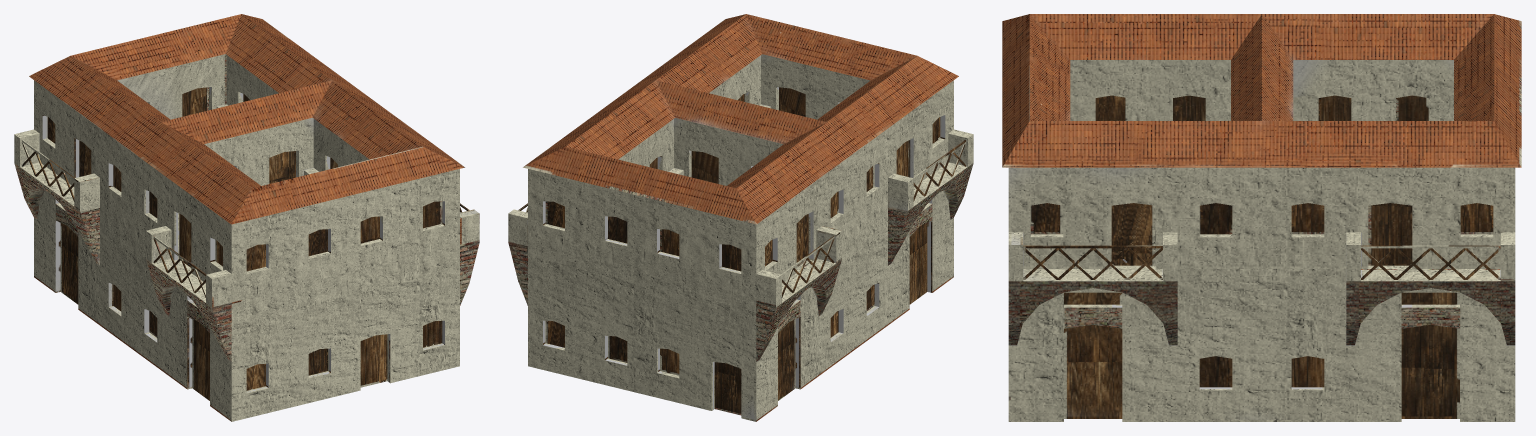
Rendered from Villa7.fbx.
The picture shows the model from 3 angles, left to right: view 1: azimuth 30°, elevation 25°; view 2: azimuth 150°, elevation 25°; view 3: azimuth 270°, elevation 25°; orthographic projection. The views are drawn at different scales.
Parts seen in each view (by area): view 1: insula1_0; view 2: insula1_0; view 3: insula1_0.
Boxes of the visible parts, bbox=[...] form: insula1_0: bbox=[14, 14, 479, 421]; insula1_0: bbox=[508, 14, 973, 421]; insula1_0: bbox=[1002, 14, 1521, 421].
Bounding box in the file's own units: 67.5 × 53.13 × 88.41.
Materials: 1 (1 with a texture image).
